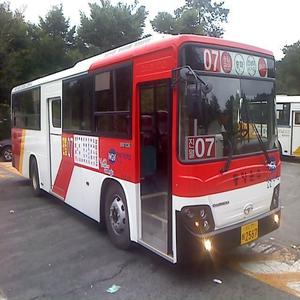07bus: (8, 33, 283, 270)
backdoor: (36, 79, 78, 202)
frontdoor: (118, 48, 177, 268)
